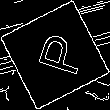P_W: (26, 29, 84, 81)
